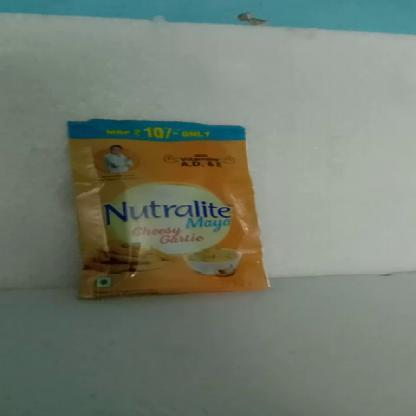Nutralite CHEESY GARLIC MAYO 30g: (72, 124, 246, 291)
